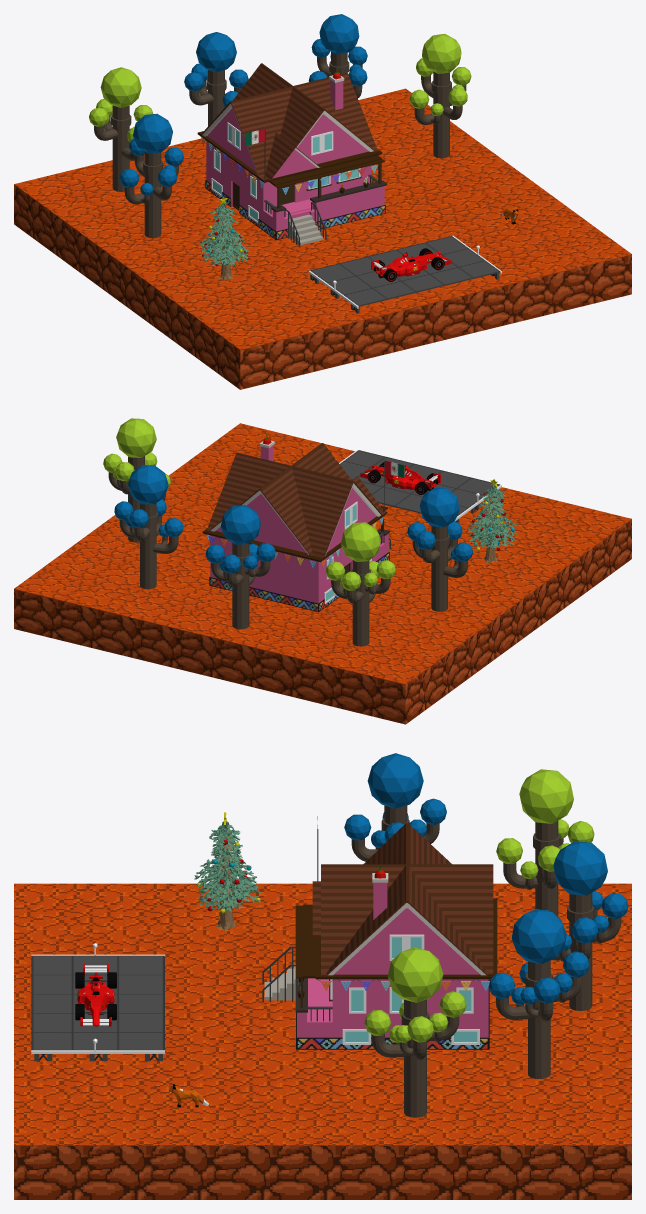
3 renders of one model, top to bottom at view 1: azimuth 30°, elevation 25°; view 2: azimuth 150°, elevation 25°; view 3: azimuth 270°, elevation 25°, orthographic. The views are drawn at different scales.
Parts seen in each view (by area): view 1: Cube.001, Cube.1005, OBJRANDOM_CHRISTMAS_TREE, VEHICLES_FORMULA_1; view 2: Cube.001, Cube.1005, OBJRANDOM_CHRISTMAS_TREE, VEHICLES_FORMULA_1; view 3: Cube.001, Cube.1005, OBJRANDOM_CHRISTMAS_TREE, VEHICLES_FORMULA_1.
Part boxes in pixels (x1,y1,x2,y2): Cube.001: [14, 14, 631, 389]; Cube.1005: [197, 63, 387, 246]; OBJRANDOM_CHRISTMAS_TREE: [198, 196, 250, 280]; VEHICLES_FORMULA_1: [371, 248, 451, 281]; Cube.001: [14, 418, 631, 724]; Cube.1005: [202, 433, 404, 612]; OBJRANDOM_CHRISTMAS_TREE: [466, 479, 516, 563]; VEHICLES_FORMULA_1: [360, 462, 440, 494]; Cube.001: [14, 753, 631, 1199]; Cube.1005: [262, 816, 497, 1049]; OBJRANDOM_CHRISTMAS_TREE: [194, 812, 261, 930]; VEHICLES_FORMULA_1: [75, 963, 116, 1026].
Size of the model in its own units: 4000 by 1717 by 4000.
71 materials, 6 textured.
